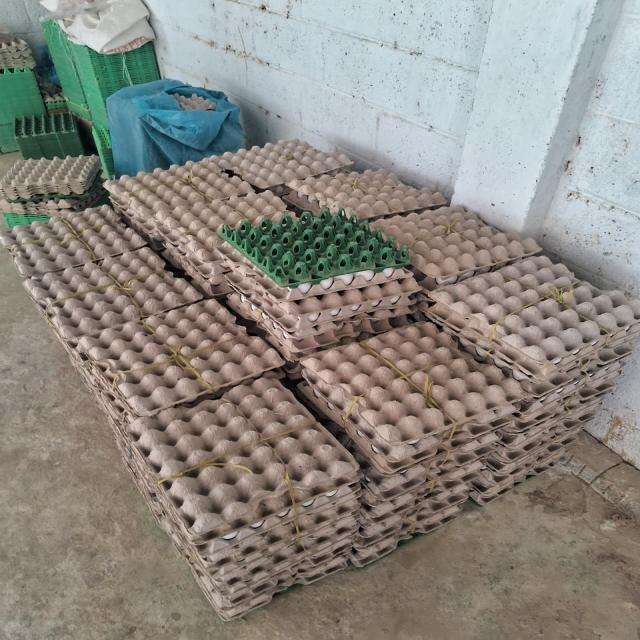egg_tray: (126, 378, 359, 616), (126, 378, 358, 558), (302, 323, 524, 473), (421, 256, 639, 381), (304, 323, 523, 445), (474, 342, 630, 503), (473, 345, 629, 503), (299, 382, 497, 504), (475, 344, 629, 500), (79, 300, 283, 415), (163, 500, 357, 620), (297, 381, 481, 504), (83, 305, 281, 416), (327, 421, 481, 563), (483, 345, 630, 490), (226, 252, 418, 360), (196, 489, 357, 612), (403, 398, 592, 500), (485, 350, 621, 488), (116, 191, 290, 295), (114, 192, 284, 296), (313, 386, 507, 474), (297, 382, 432, 504), (24, 248, 201, 341), (106, 158, 285, 249), (198, 487, 357, 582), (219, 210, 409, 288), (350, 454, 481, 566), (371, 206, 541, 290), (221, 210, 407, 286), (421, 302, 602, 380), (419, 303, 597, 382), (226, 266, 418, 338), (497, 344, 631, 447), (192, 531, 350, 618), (227, 268, 419, 338), (328, 422, 481, 504), (227, 293, 411, 361), (227, 270, 420, 334), (192, 543, 347, 620), (156, 192, 294, 278), (487, 380, 613, 472), (221, 246, 413, 305), (471, 412, 593, 504), (508, 344, 631, 434), (358, 460, 481, 546), (107, 413, 183, 552), (227, 262, 418, 317), (0, 206, 145, 277), (499, 363, 620, 448), (228, 293, 412, 348), (352, 484, 470, 566), (49, 321, 136, 424), (227, 292, 354, 362), (485, 398, 599, 475), (105, 403, 171, 533), (105, 161, 253, 218), (54, 330, 138, 428), (519, 342, 632, 414), (485, 403, 599, 474), (355, 480, 470, 550), (349, 497, 465, 566), (285, 170, 445, 220), (286, 170, 446, 220), (215, 139, 352, 194), (155, 191, 286, 245), (64, 343, 137, 432), (470, 444, 565, 504), (0, 206, 121, 250), (283, 169, 402, 213), (225, 290, 298, 360), (0, 156, 99, 199), (551, 382, 614, 448), (486, 421, 565, 472), (156, 242, 230, 296), (0, 178, 103, 216), (161, 241, 231, 296), (0, 178, 104, 212), (161, 246, 231, 296), (165, 230, 225, 282), (111, 198, 163, 250), (175, 222, 227, 272), (337, 306, 415, 339), (579, 342, 632, 386), (278, 550, 339, 588), (308, 169, 402, 189), (460, 336, 509, 370), (349, 535, 399, 566), (311, 390, 345, 426), (353, 536, 396, 563), (0, 36, 35, 69), (283, 187, 322, 214), (218, 585, 261, 607), (459, 338, 492, 361), (3, 213, 51, 228), (304, 332, 339, 352), (173, 94, 215, 110), (298, 382, 321, 411), (298, 382, 321, 410), (0, 50, 35, 68), (0, 36, 29, 56), (0, 36, 29, 55), (41, 90, 65, 112), (463, 341, 489, 361), (281, 360, 301, 383), (479, 478, 499, 498), (439, 490, 457, 508), (179, 538, 195, 558), (259, 212, 291, 222), (565, 306, 586, 318), (32, 272, 63, 280), (177, 398, 203, 407), (498, 362, 512, 374), (425, 516, 436, 530), (378, 202, 388, 214), (169, 526, 177, 540), (90, 386, 101, 396), (512, 305, 523, 315), (79, 344, 86, 358), (123, 448, 129, 464), (255, 520, 266, 526), (390, 522, 397, 531), (66, 226, 73, 234), (251, 566, 258, 574), (599, 390, 608, 396), (338, 340, 351, 344), (172, 536, 177, 546), (325, 314, 335, 319), (301, 501, 308, 508), (503, 366, 509, 374), (519, 424, 525, 432), (253, 522, 261, 528), (233, 220, 241, 226), (543, 296, 550, 302), (550, 446, 557, 452), (343, 435, 349, 442), (311, 395, 317, 402), (35, 300, 40, 308), (568, 370, 576, 375), (307, 350, 316, 354), (303, 392, 309, 398), (430, 518, 437, 523), (119, 323, 130, 326), (487, 285, 498, 288), (263, 550, 267, 558), (449, 440, 454, 446), (336, 425, 341, 430), (179, 545, 183, 551), (81, 228, 93, 230), (595, 390, 601, 394), (331, 200, 335, 206), (199, 580, 203, 585), (101, 404, 105, 409), (83, 218, 88, 222), (459, 494, 464, 498), (61, 107, 65, 112), (354, 436, 357, 442), (393, 301, 399, 304), (408, 442, 417, 444), (512, 370, 516, 374), (411, 518, 415, 522), (523, 383, 527, 387), (115, 318, 119, 322), (251, 600, 255, 604), (333, 526, 337, 530), (167, 244, 171, 248), (587, 328, 591, 332), (119, 444, 121, 452), (404, 529, 407, 534), (356, 431, 361, 434), (369, 536, 374, 539), (277, 290, 282, 293), (554, 433, 557, 437), (479, 481, 481, 487), (25, 280, 28, 284), (489, 310, 492, 314), (359, 308, 365, 310), (371, 306, 377, 308), (167, 354, 169, 359), (313, 333, 323, 334), (296, 580, 301, 582), (45, 311, 47, 316), (330, 192, 335, 194), (554, 302, 557, 305), (285, 333, 288, 336), (412, 523, 415, 526), (411, 527, 414, 530), (225, 609, 228, 612), (234, 576, 237, 579), (259, 567, 262, 570), (340, 559, 343, 562), (514, 296, 517, 299), (545, 345, 548, 348), (560, 329, 563, 332), (581, 418, 583, 422), (325, 494, 329, 496), (534, 294, 536, 298), (337, 524, 339, 528), (407, 536, 411, 538), (545, 343, 549, 345), (484, 448, 486, 452), (347, 444, 349, 448), (298, 355, 301, 357), (479, 463, 481, 466), (311, 314, 314, 316), (571, 418, 574, 420), (165, 526, 168, 528), (596, 392, 599, 394), (116, 256, 119, 258), (236, 608, 239, 610), (453, 498, 456, 500), (319, 316, 321, 319), (318, 404, 321, 406), (53, 110, 56, 112), (247, 527, 250, 529), (282, 510, 285, 512), (298, 338, 303, 339), (434, 484, 435, 488), (578, 298, 579, 302), (290, 307, 292, 309), (302, 346, 304, 348), (449, 487, 453, 488), (268, 371, 270, 373), (371, 558, 375, 559), (305, 552, 306, 556), (250, 526, 252, 528), (407, 535, 410, 536), (341, 525, 344, 526), (131, 451, 132, 453), (552, 316, 554, 317), (517, 307, 519, 308), (262, 279, 263, 281), (609, 356, 610, 358), (329, 536, 331, 537), (207, 234, 208, 236), (567, 444, 568, 446), (307, 371, 308, 373), (478, 467, 479, 468), (153, 367, 154, 368), (418, 529, 419, 530), (420, 498, 421, 499), (232, 532, 233, 533), (434, 477, 435, 477), (445, 474, 447, 474), (517, 376, 519, 376), (605, 341, 605, 342), (571, 275, 572, 275), (544, 259, 545, 259), (286, 307, 288, 307), (287, 317, 287, 317), (380, 534, 381, 534), (399, 505, 399, 506), (443, 476, 443, 476), (361, 462, 361, 467), (369, 454, 370, 454), (515, 414, 517, 414), (183, 551, 183, 553), (177, 544, 177, 546), (483, 485, 483, 485), (482, 481, 483, 481), (87, 263, 89, 263), (331, 569, 332, 569), (293, 214, 294, 214), (213, 252, 214, 252), (522, 310, 524, 310), (527, 307, 528, 307), (530, 305, 532, 305), (529, 292, 530, 292), (187, 543, 187, 543), (183, 538, 183, 538), (232, 456, 242, 456), (354, 310, 355, 310), (527, 350, 528, 350), (525, 347, 525, 348), (333, 419, 334, 419), (407, 536, 410, 536), (433, 527, 435, 527), (479, 454, 479, 454), (230, 534, 232, 534), (289, 510, 290, 510), (497, 492, 499, 492), (622, 356, 623, 356)
